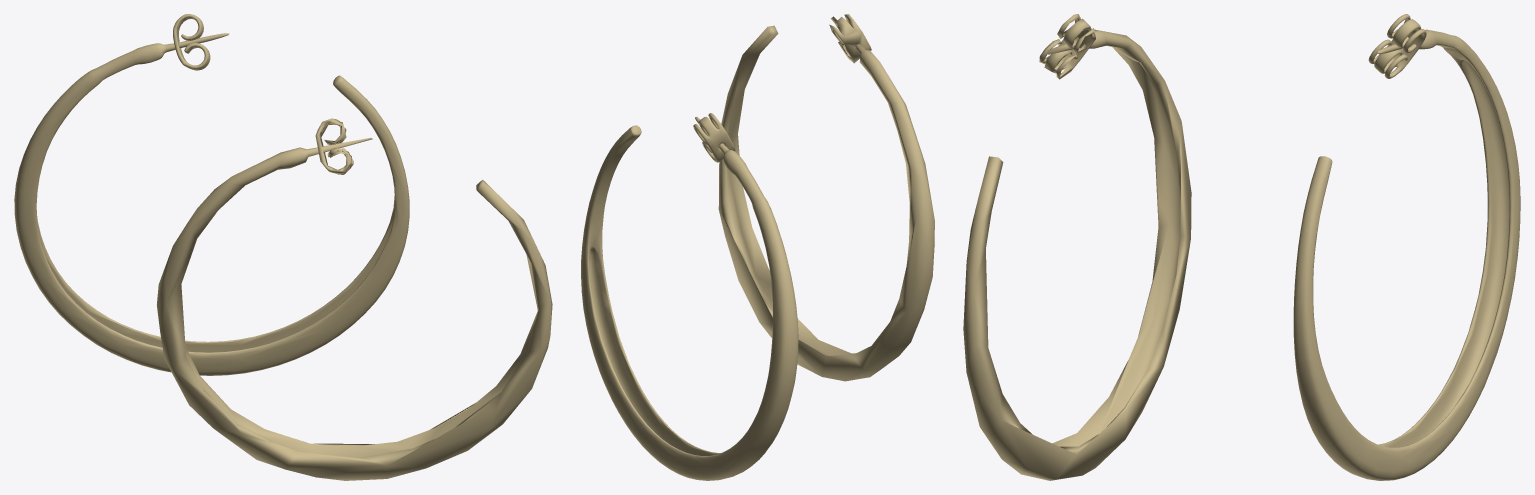
File: earring1.gltf
3 renders of one model, left to right at view 1: azimuth 30°, elevation 25°; view 2: azimuth 150°, elevation 25°; view 3: azimuth 270°, elevation 25°, orthographic. The views are drawn at different scales.
Visible parts, largest first — view 1: 11758__earring_v1_l3, 11758__earring_v1_l3.001; view 2: 11758__earring_v1_l3.001, 11758__earring_v1_l3; view 3: 11758__earring_v1_l3, 11758__earring_v1_l3.001.
Boxes of the visible parts, left/top/right/bottom form: 11758__earring_v1_l3: left=157, top=118, right=552, bottom=480; 11758__earring_v1_l3.001: left=14, top=14, right=409, bottom=375; 11758__earring_v1_l3.001: left=581, top=113, right=798, bottom=480; 11758__earring_v1_l3: left=718, top=14, right=934, bottom=381; 11758__earring_v1_l3: left=963, top=14, right=1191, bottom=480; 11758__earring_v1_l3.001: left=1293, top=14, right=1520, bottom=480.
Size of the model in its own units: 0.6645 by 0.7676 by 0.8997.
